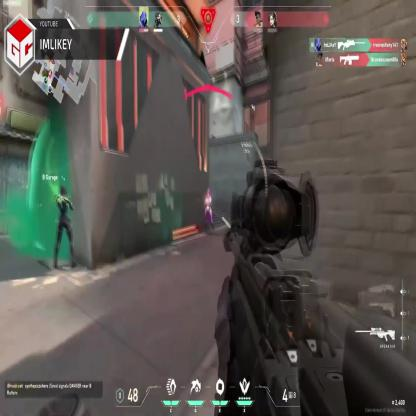enemy: (202, 188, 213, 232)
enemy_head: (207, 189, 210, 197)
